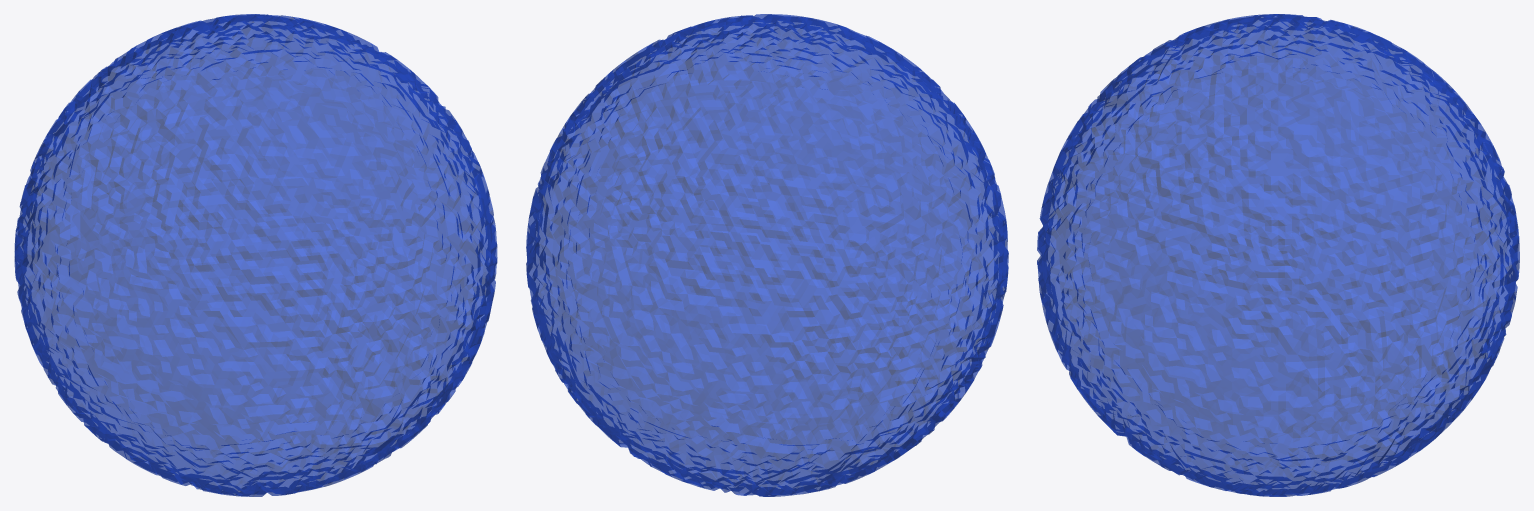
Rendered from PLANET2(w).obj.
The picture shows the model from 3 angles, left to right: view 1: azimuth 30°, elevation 25°; view 2: azimuth 150°, elevation 25°; view 3: azimuth 270°, elevation 25°; orthographic projection.
Parts seen in each view (by area): view 1: Icosphere; view 2: Icosphere; view 3: Icosphere.
Boxes of the visible parts, x1,y1,x2,y2 form: Icosphere: (14, 14, 497, 496); Icosphere: (526, 14, 1008, 496); Icosphere: (1037, 14, 1519, 496).
Bounding box in the file's own units: 1.03 × 1.03 × 1.03.
